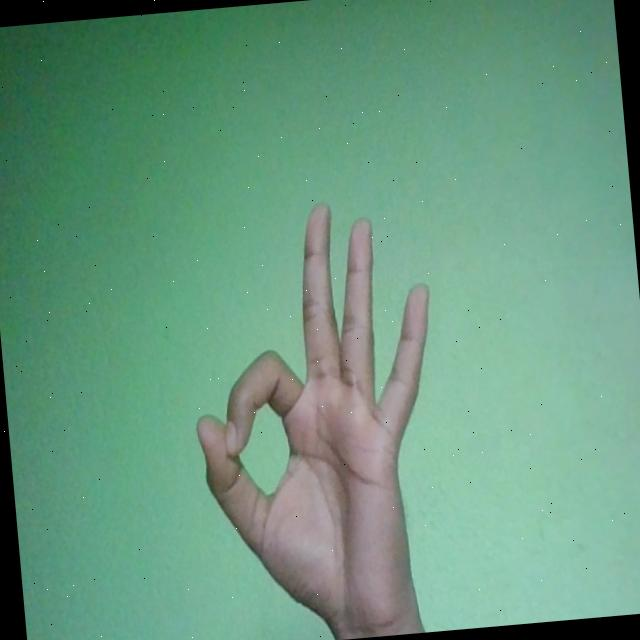Rock On: (176, 195, 458, 640)
